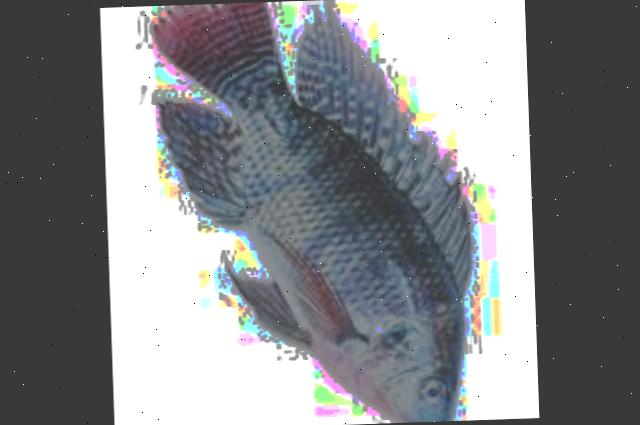Healthy Fish: (151, 2, 470, 423)
